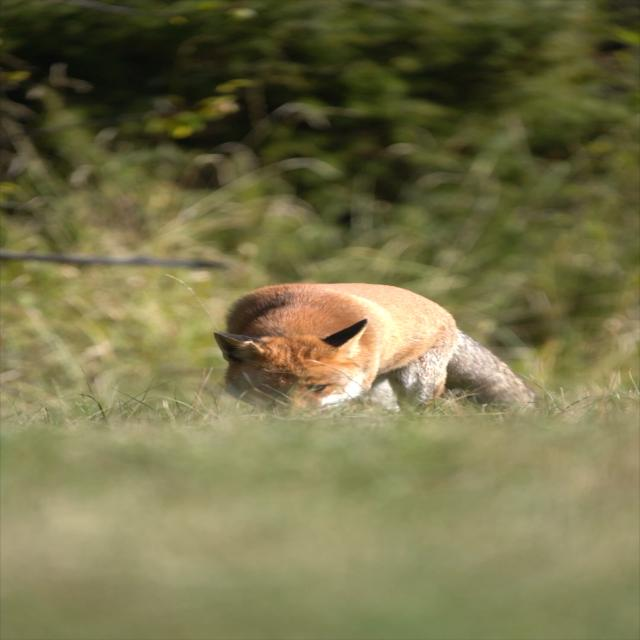fox: (188, 274, 559, 438)
